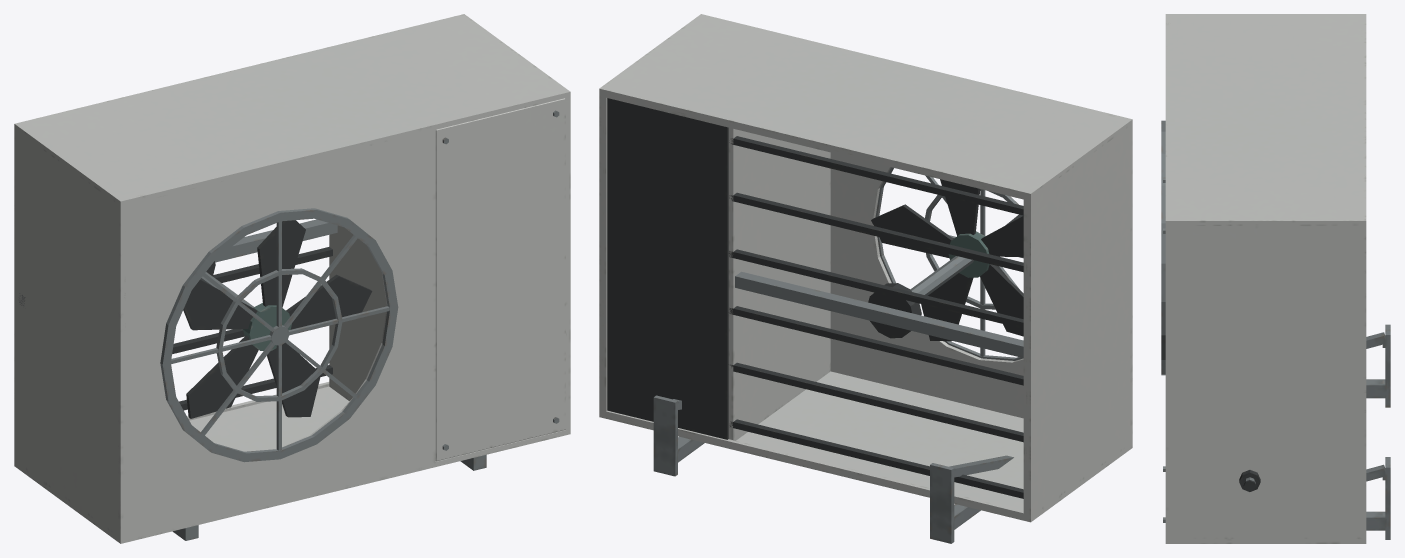
File: air_conditioner_large.glb
3 renders of one model, left to right at view 1: azimuth 30°, elevation 25°; view 2: azimuth 150°, elevation 25°; view 3: azimuth 270°, elevation 25°, orthographic. The views are drawn at different scales.
Parts seen in each view (by area): view 1: AirConditionerLarge; view 2: AirConditionerLarge; view 3: AirConditionerLarge.
Part boxes in pixels (x1,y1,x2,y2): AirConditionerLarge: [14, 14, 570, 543]; AirConditionerLarge: [599, 14, 1132, 543]; AirConditionerLarge: [1161, 14, 1390, 543].
Size of the model in its own units: 1.14 by 0.87 by 0.515.
1 material, 1 textured.
